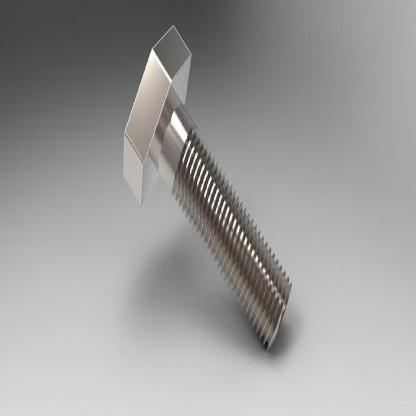FOD: (121, 20, 293, 358)
